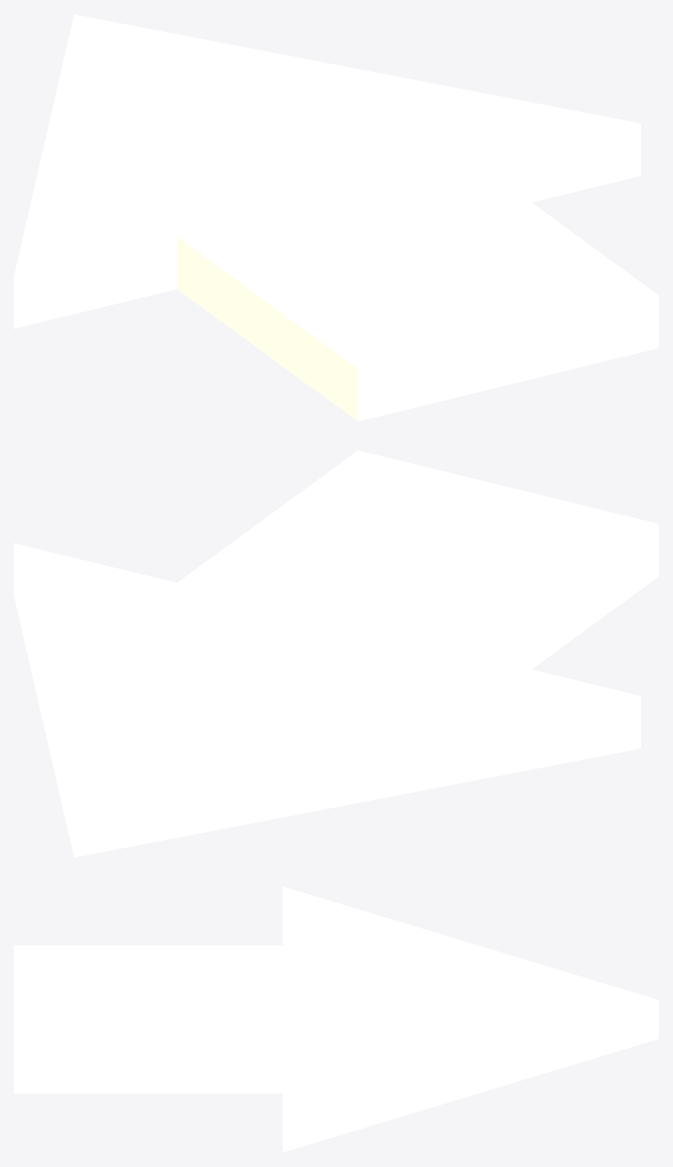
File: marker_origin_arrow.glb
3 views of the same model, one above another, from view 1: azimuth 30°, elevation 25°; view 2: azimuth 150°, elevation 25°; view 3: azimuth 270°, elevation 25° (orthographic). The views are drawn at different scales.
Parts seen in each view (by area): view 1: MarkerOriginArrow; view 2: MarkerOriginArrow; view 3: MarkerOriginArrow.
Part boxes in pixels (x1,y1,x2,y2): MarkerOriginArrow: (14,14,658,421); MarkerOriginArrow: (14,450,658,857); MarkerOriginArrow: (14,886,658,1152).
Size of the model in its own units: 1 by 0.08 by 1.2.
